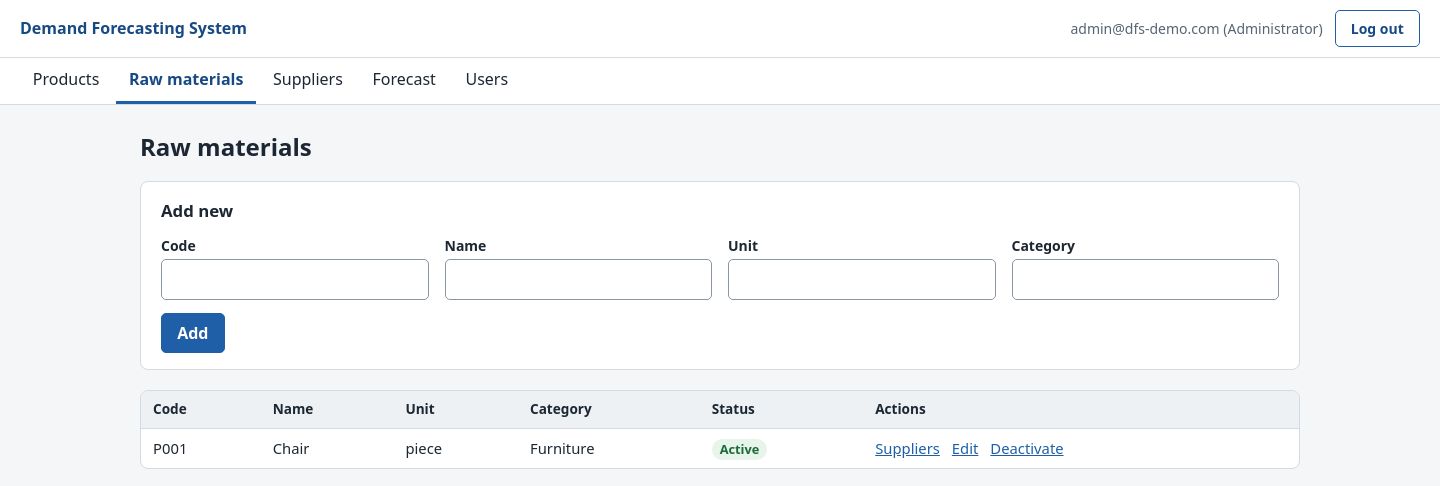
Test: products and raw materials › lets an admin add an item
Type "M001" into the field labelled "Code" at (295, 279), box [161,259,428,300]
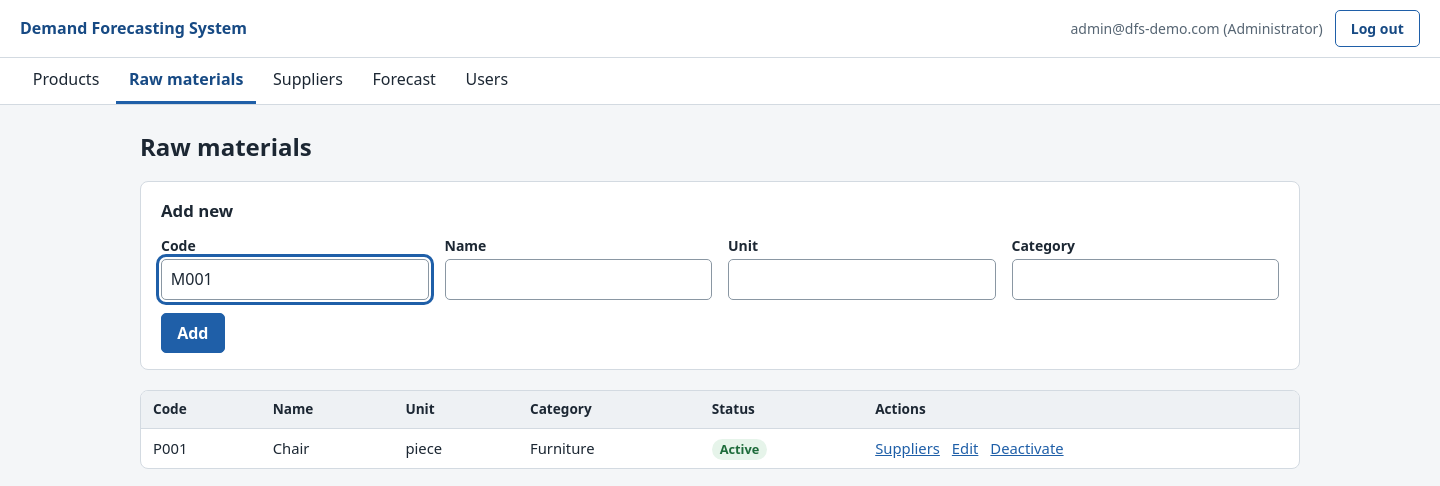
Type "Steel" into the field labelled "Name" at (578, 279), box [444,259,712,300]
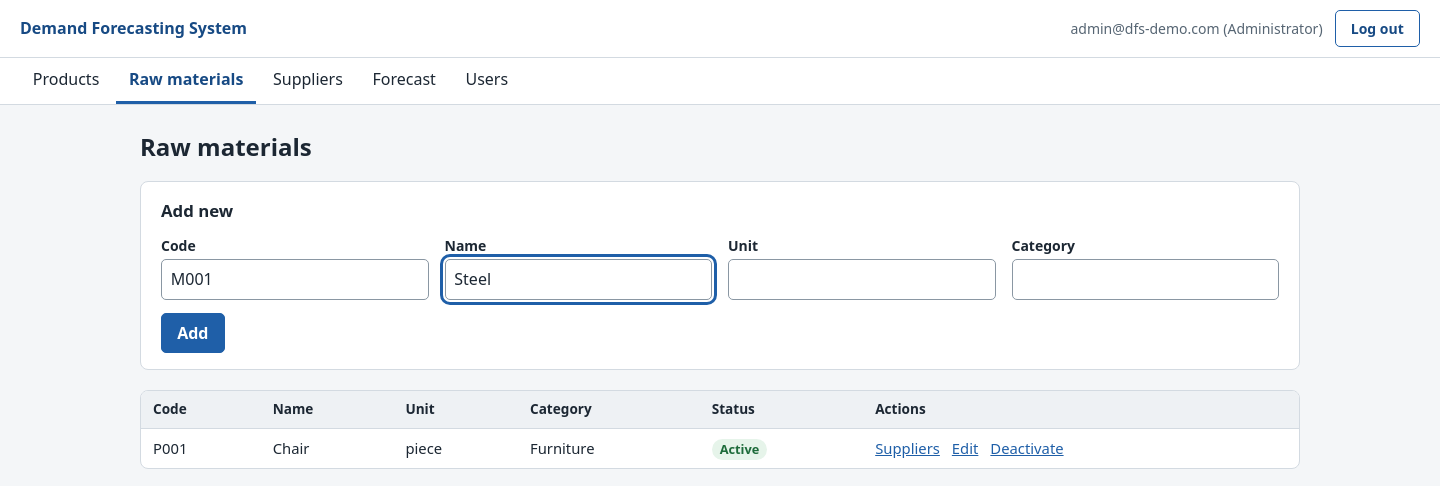
Type "kg" into the field labelled "Unit" at (862, 279), box [728,259,996,300]
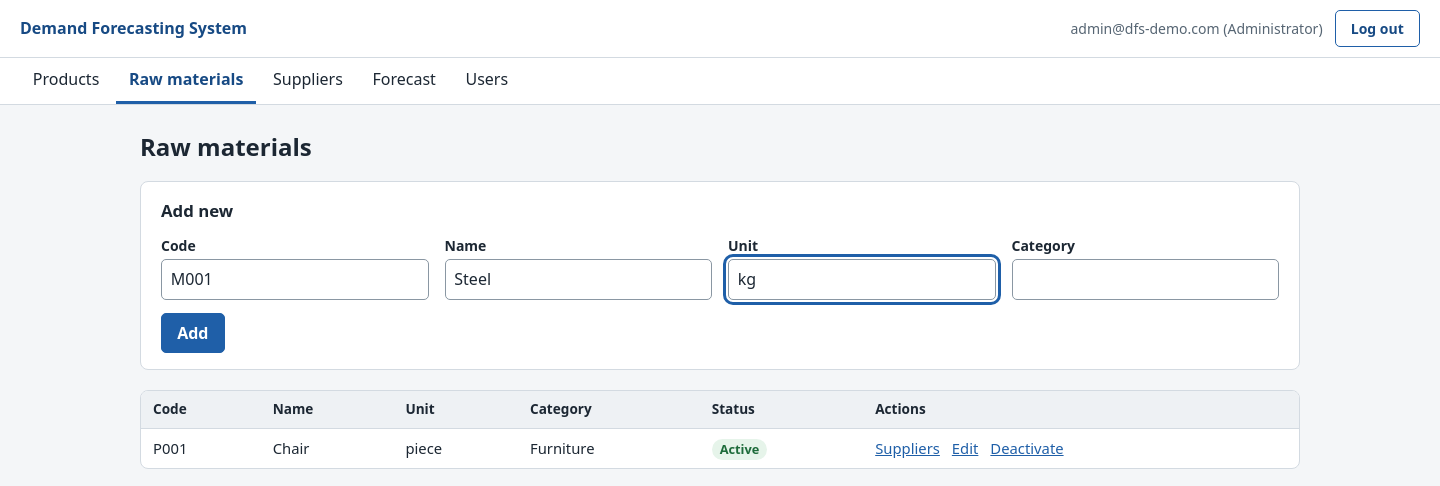
Click the button "Add" at (193, 333), box [161,313,225,354]
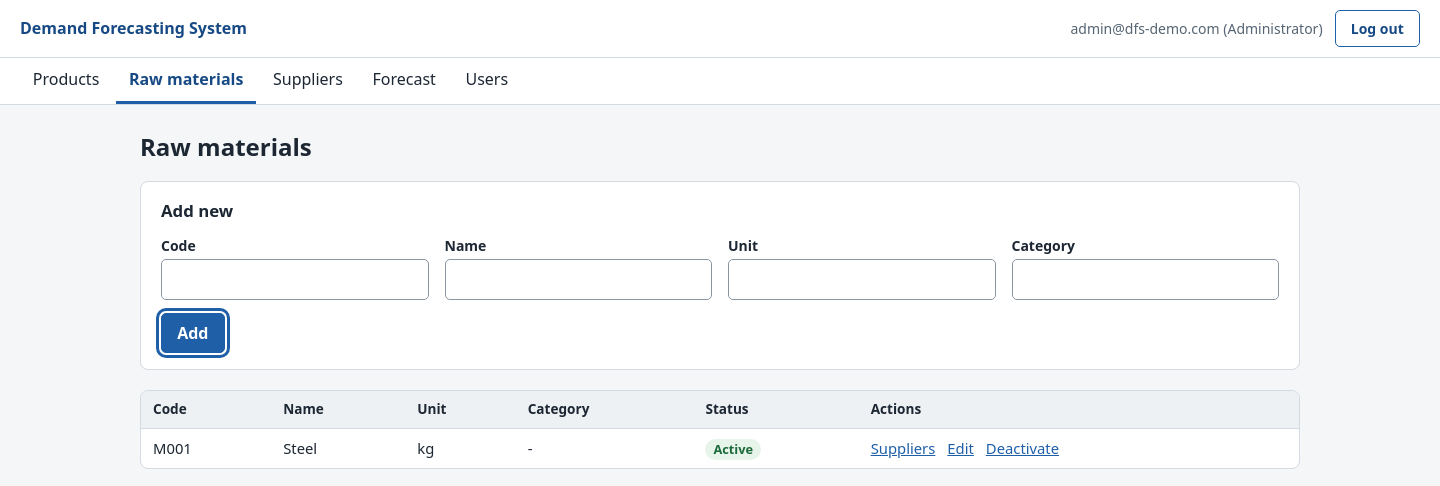
Check: the cell "Steel" is shown, box [271,428,405,468]
